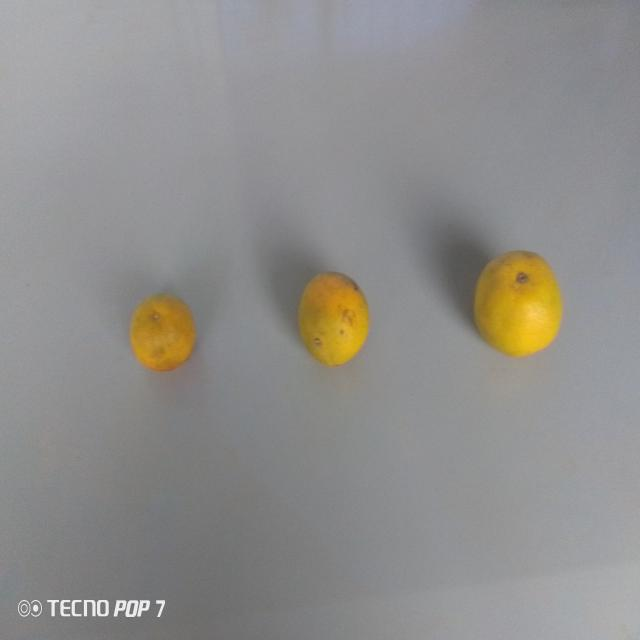Ripe orange: (468, 248, 568, 362), (290, 264, 376, 374), (123, 289, 204, 375)
